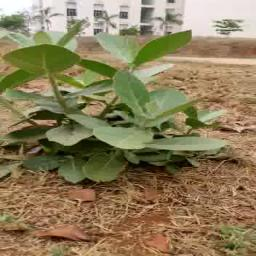CALOTROPIS: (0, 28, 228, 180)
